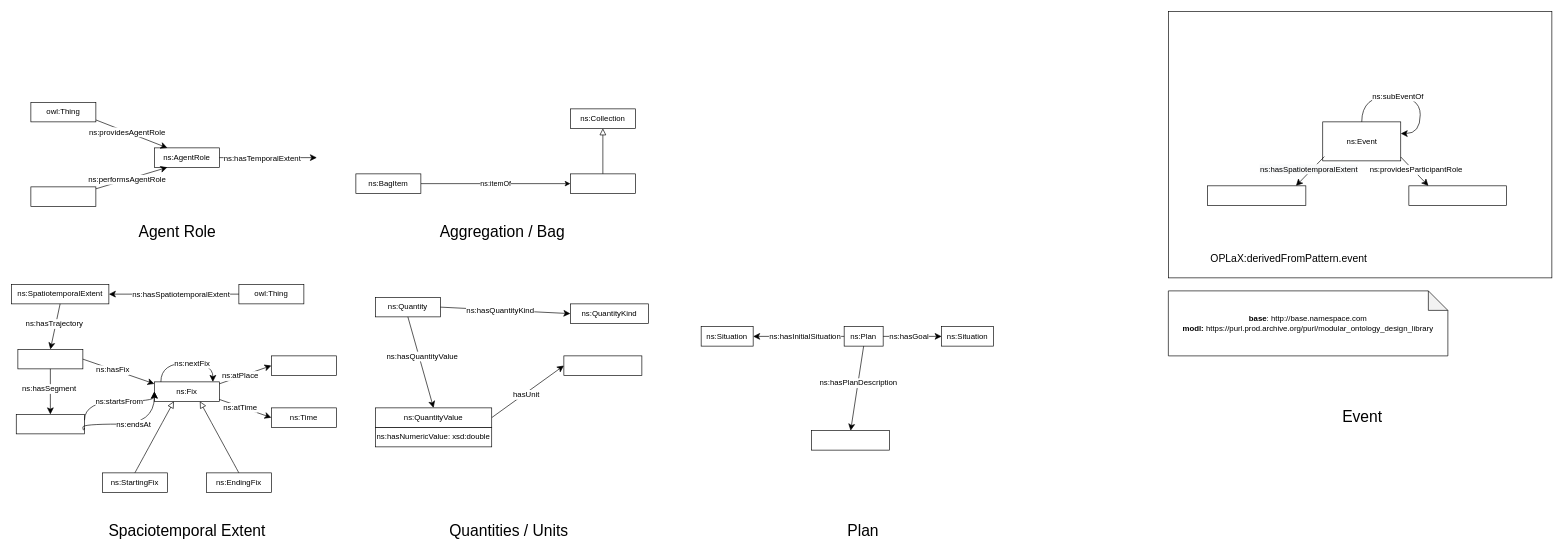
This 1563x552 diagram has some shape labels left out. Each missing label, with the centre of its shape:
"ns: Place" goes at [303,365].
"ns: Segment" goes at [50,424].
"ns: Trajectory" goes at [50,359].
"ns:Agent" goes at [63,196].
"ns:Bag" goes at [602,183].
"ns:ParticipantRole" goes at [1457,195].
"ns:PlanDescription" goes at [850,440].
"ns:SpatiotemporalExtent" goes at [1256,195].
"ns:Unit" goes at [602,365].
